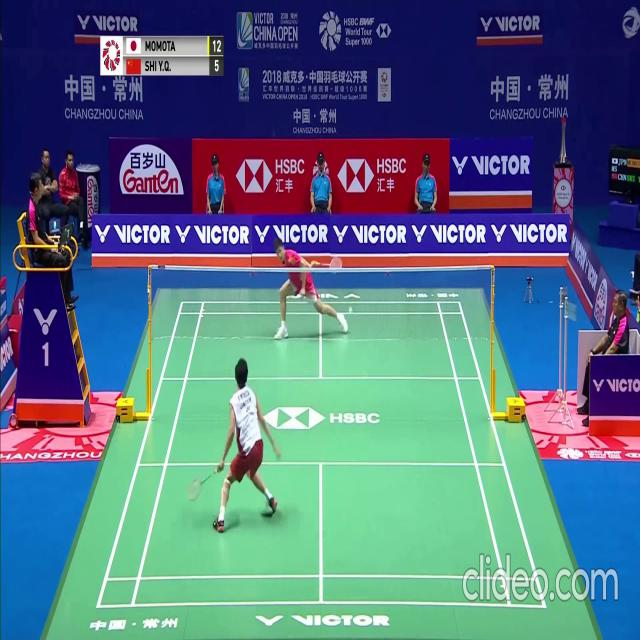Shuttlecock: (348, 306, 353, 313)
